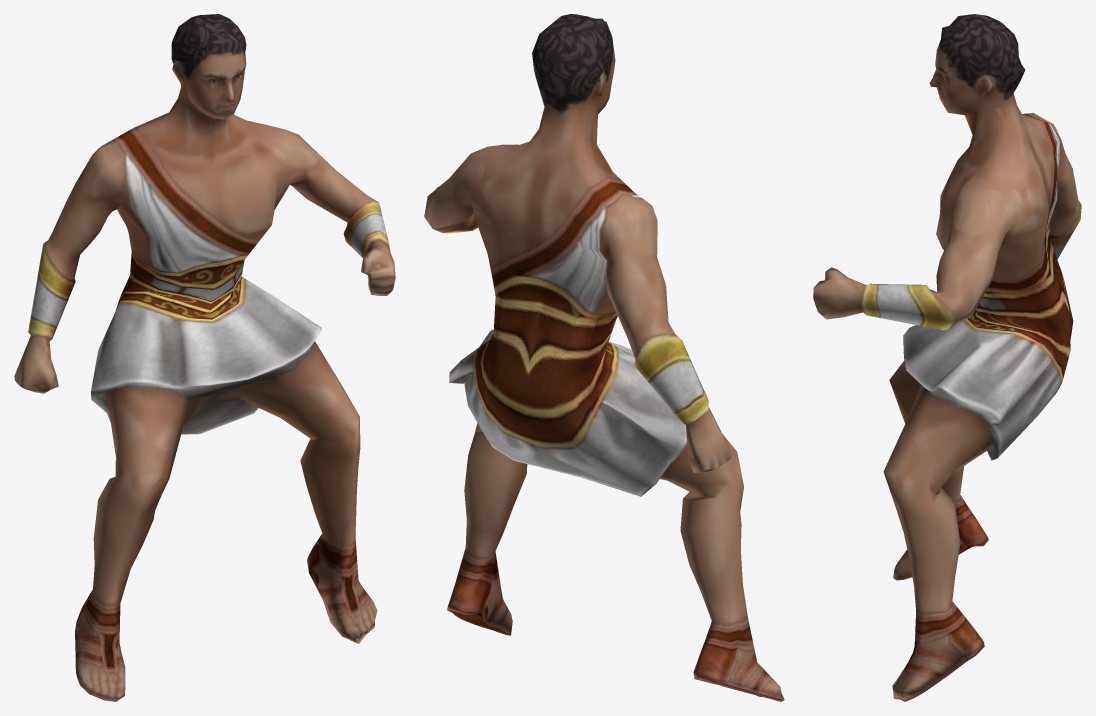
Rendered from rider-slice-base.glb.
3 views of the same model, side by side, from view 1: azimuth 30°, elevation 25°; view 2: azimuth 150°, elevation 25°; view 3: azimuth 270°, elevation 25° (orthographic). The views are drawn at different scales.
Bounding box in the file's own units: 1.07 × 2.01 × 0.7811.
Materials: 1 (1 with a texture image).
